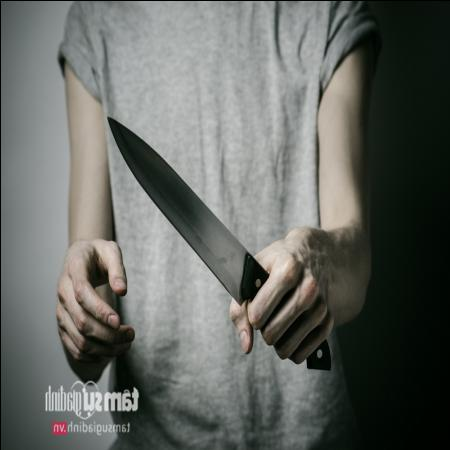long weapon: (103, 104, 289, 360)
